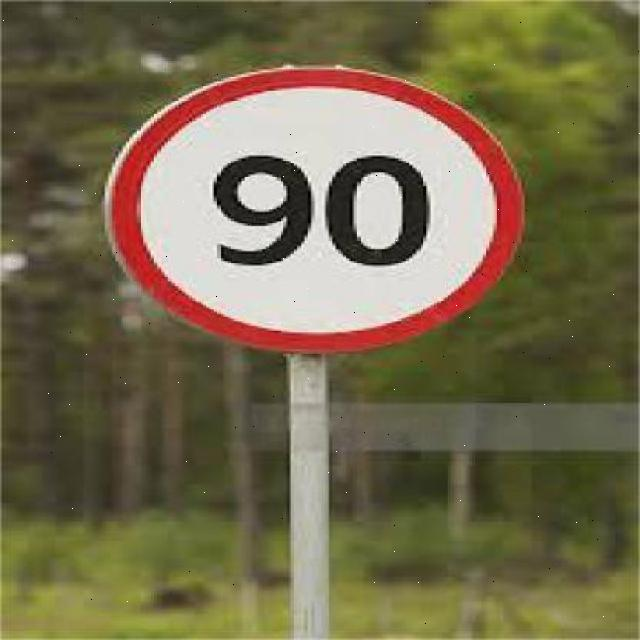speed limit 90: (104, 65, 526, 354)
